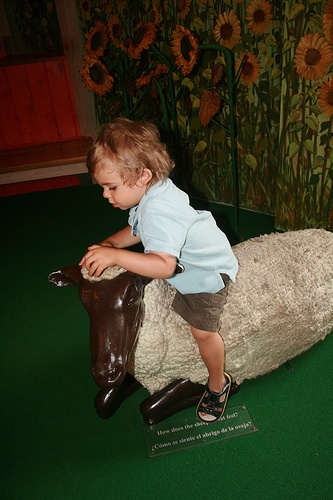head: (87, 117, 171, 210)
person: (62, 115, 240, 422)
